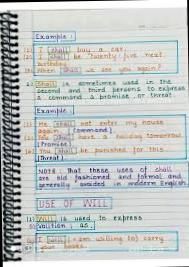text: (22, 130, 184, 143), (36, 171, 184, 185), (20, 49, 164, 63), (24, 144, 165, 157), (36, 178, 188, 190), (35, 83, 186, 95), (26, 233, 165, 246), (25, 76, 174, 88), (37, 164, 173, 177), (23, 62, 164, 74), (22, 117, 165, 128), (35, 91, 173, 102), (25, 212, 144, 224), (22, 43, 126, 55), (35, 125, 115, 137), (38, 197, 108, 210), (22, 243, 85, 254), (26, 222, 90, 232), (33, 30, 68, 42), (35, 139, 74, 148), (35, 106, 68, 116), (34, 59, 67, 68), (36, 153, 64, 163)
